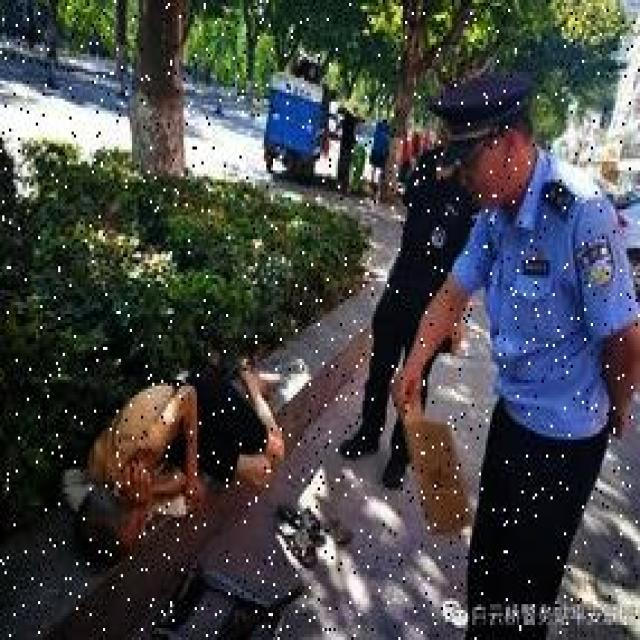fall: (74, 352, 275, 560)
